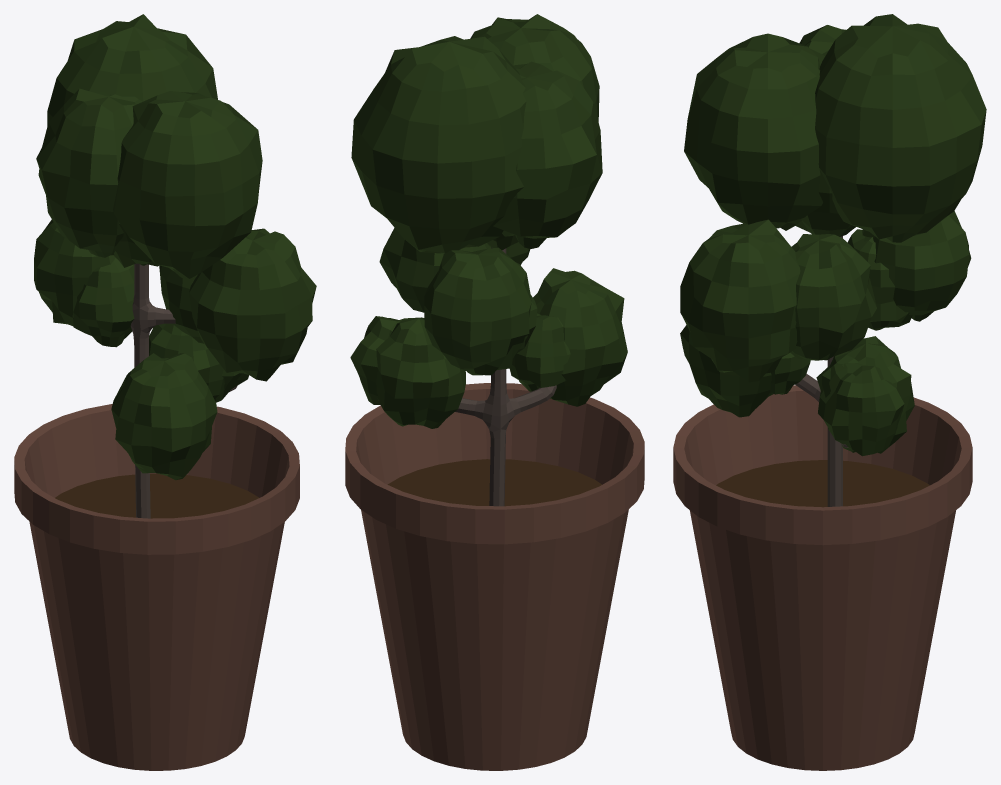
Rendered from abrustre boule.fbx.
3 views of the same model, side by side, from view 1: azimuth 30°, elevation 25°; view 2: azimuth 150°, elevation 25°; view 3: azimuth 270°, elevation 25° (orthographic). The views are drawn at different scales.
Visible parts, largest first — view 1: Cylinder.011; view 2: Cylinder.011; view 3: Cylinder.011.
Boxes of the visible parts, <box> form: Cylinder.011: <box>14,14,316,770</box>; Cylinder.011: <box>345,14,644,770</box>; Cylinder.011: <box>673,14,986,770</box>.
Size of the model in its own units: 76.01 by 199 by 79.58.
